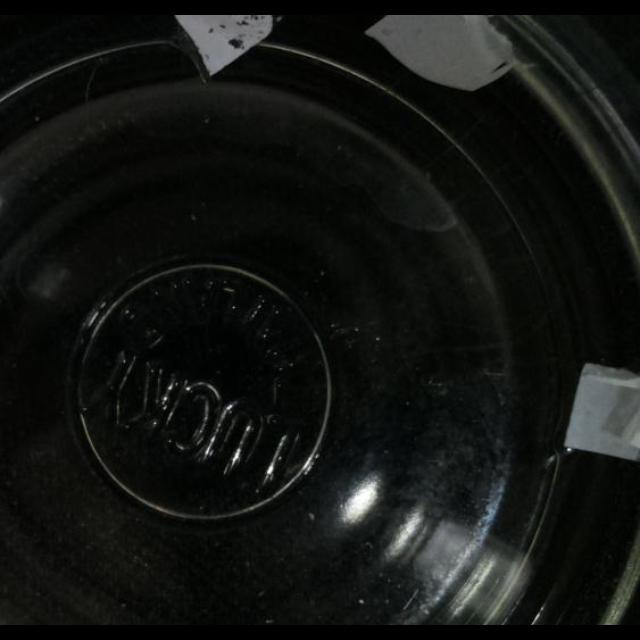Fragment: (365, 15, 537, 91), (567, 360, 640, 462), (170, 16, 288, 78)
